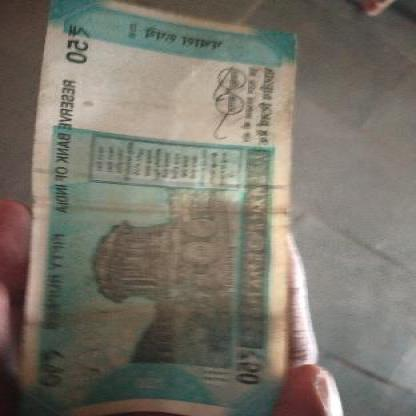New50Back: (14, 23, 296, 415)
